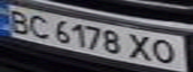1: (66, 21, 87, 48)
6: (48, 18, 72, 45)
7: (81, 24, 103, 52)
8: (103, 27, 127, 56)
B: (3, 7, 33, 35)
C: (24, 11, 54, 39)
O: (148, 36, 184, 66)
X: (124, 32, 157, 62)
